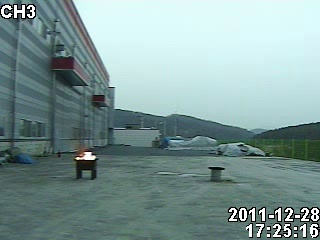fire: (72, 149, 98, 160)
